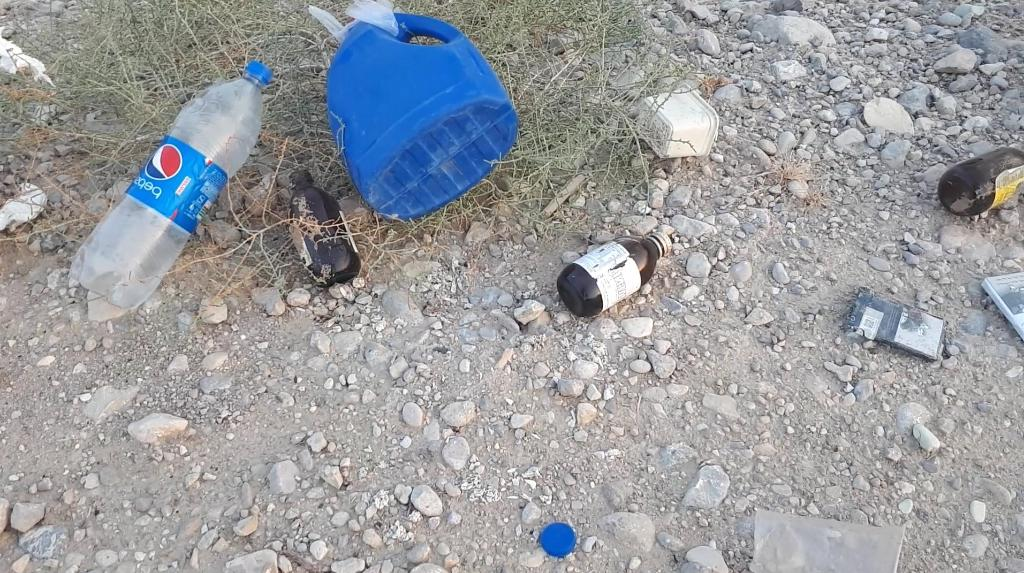garbage: (43, 51, 288, 327), (296, 2, 527, 239), (68, 60, 274, 309), (327, 11, 518, 219), (548, 213, 682, 334), (557, 232, 671, 317), (911, 138, 1024, 220), (288, 170, 361, 287), (937, 147, 1023, 215)
